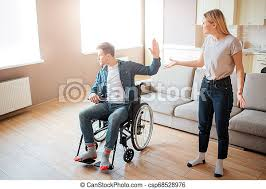wheelchair: (74, 37, 161, 169)
